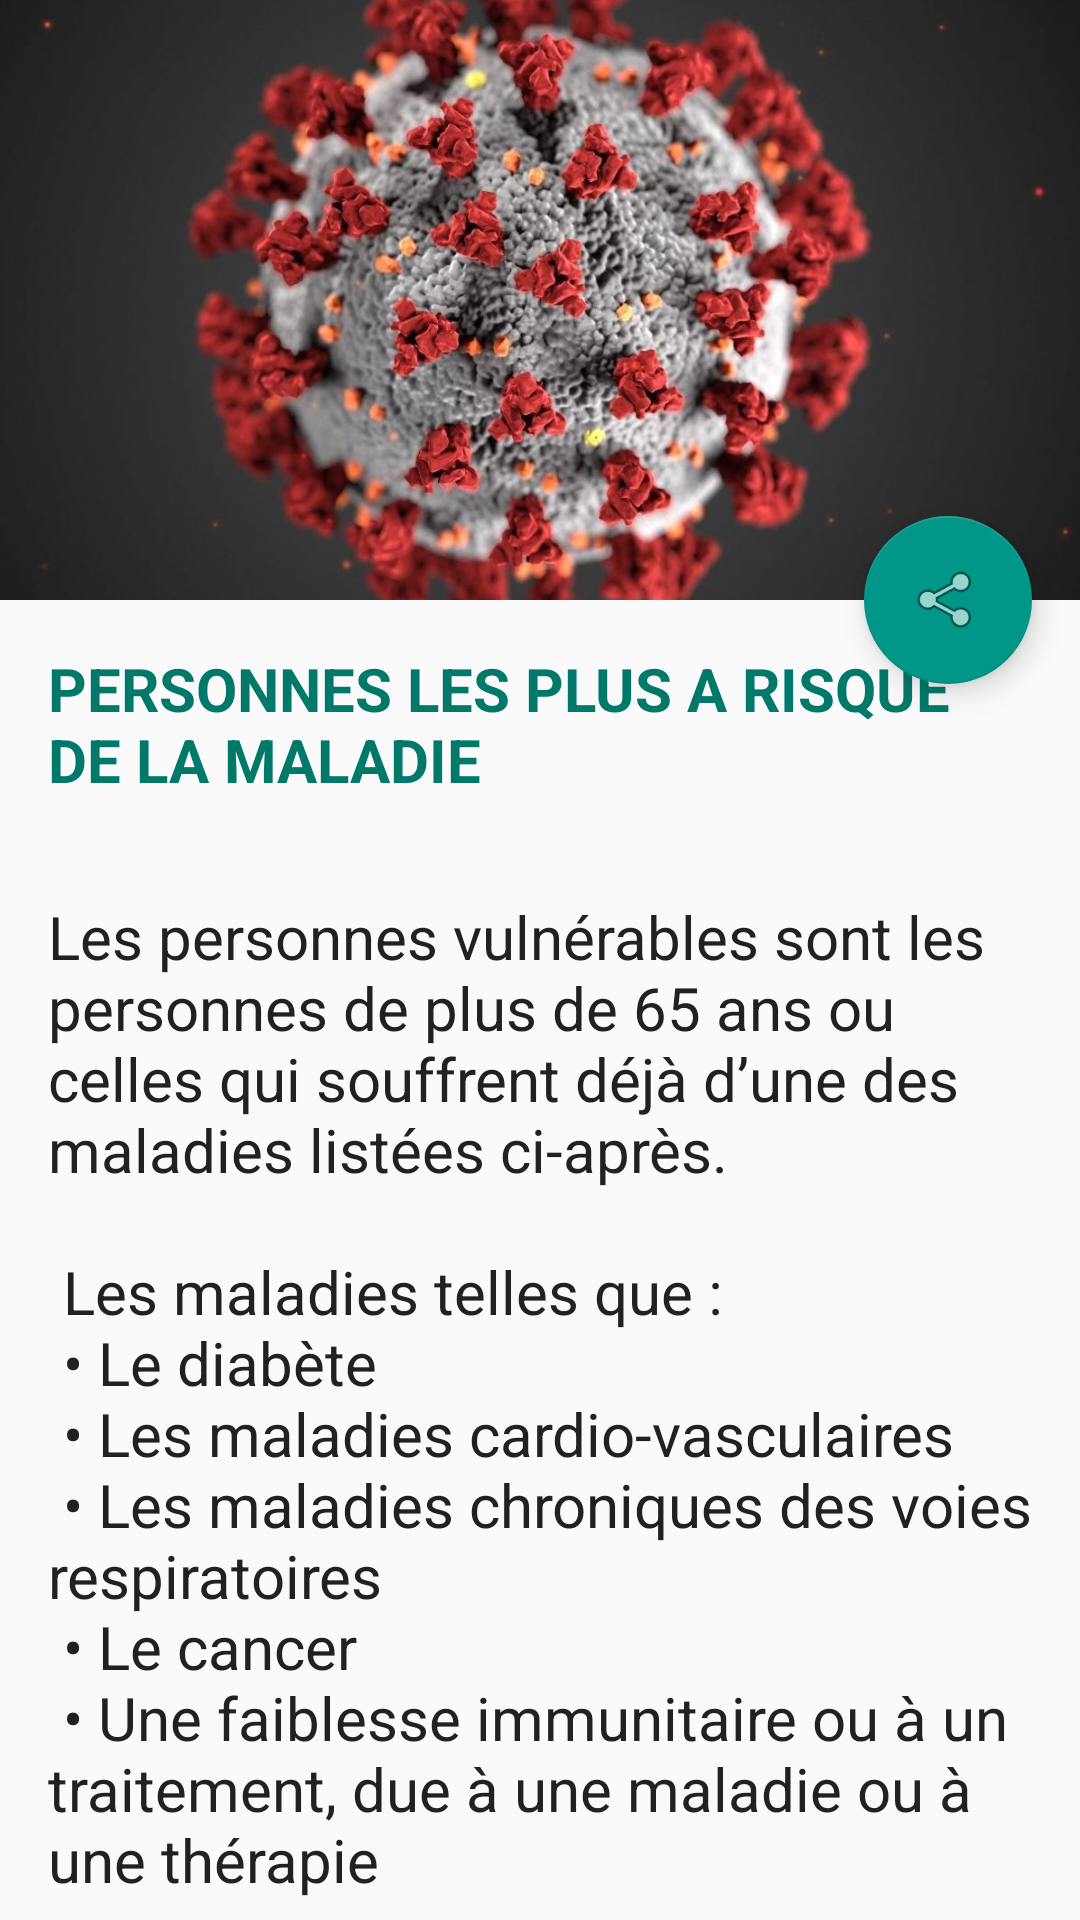

Named icons in this screenshot (1080*1920) and their centers, [x,y]:
share: [948,600]
